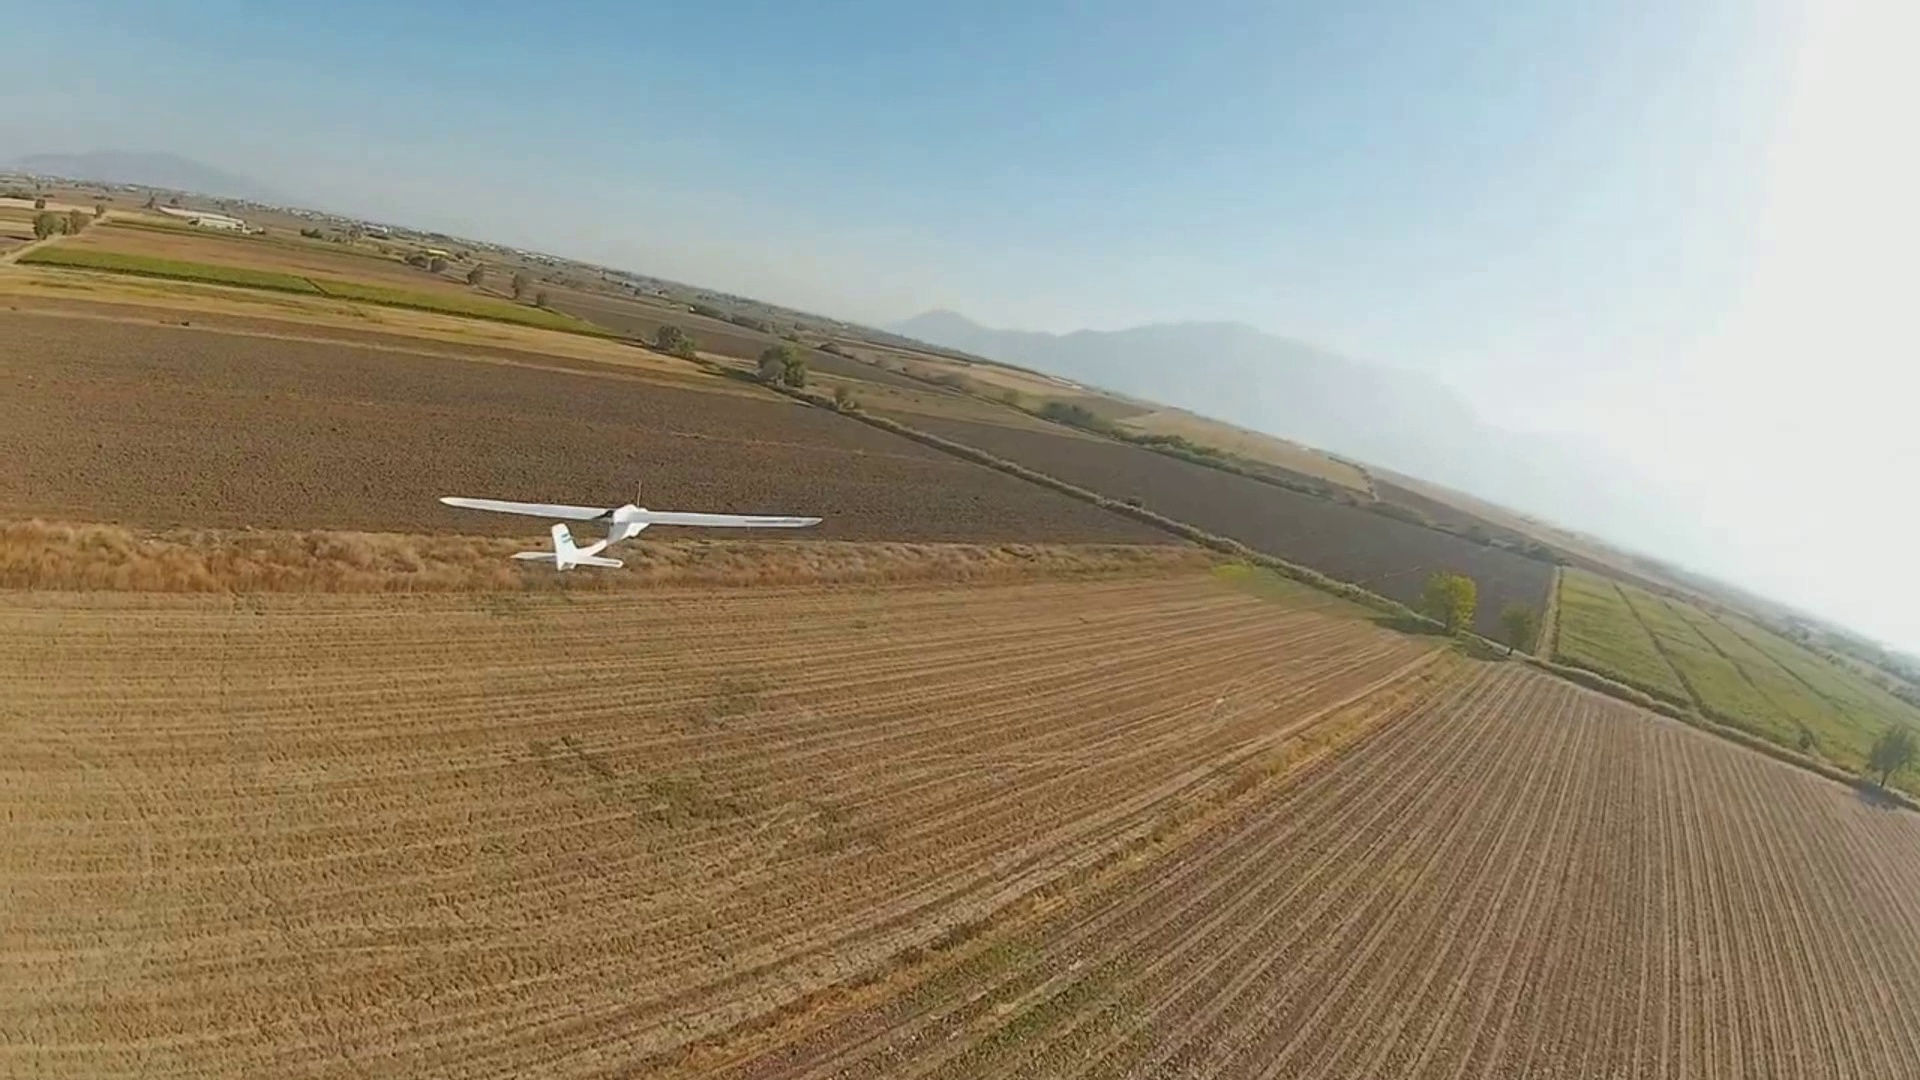airplane: (434, 455, 824, 578), (438, 488, 822, 574)
